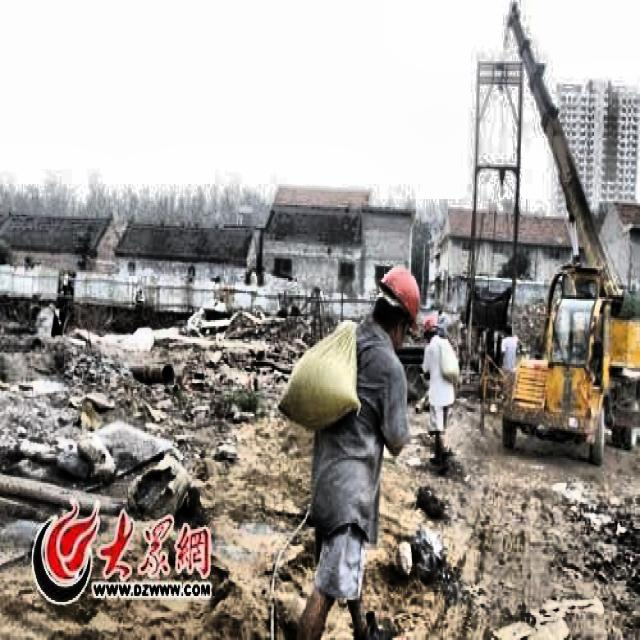helmet: (372, 266, 423, 343), (418, 312, 440, 345)
